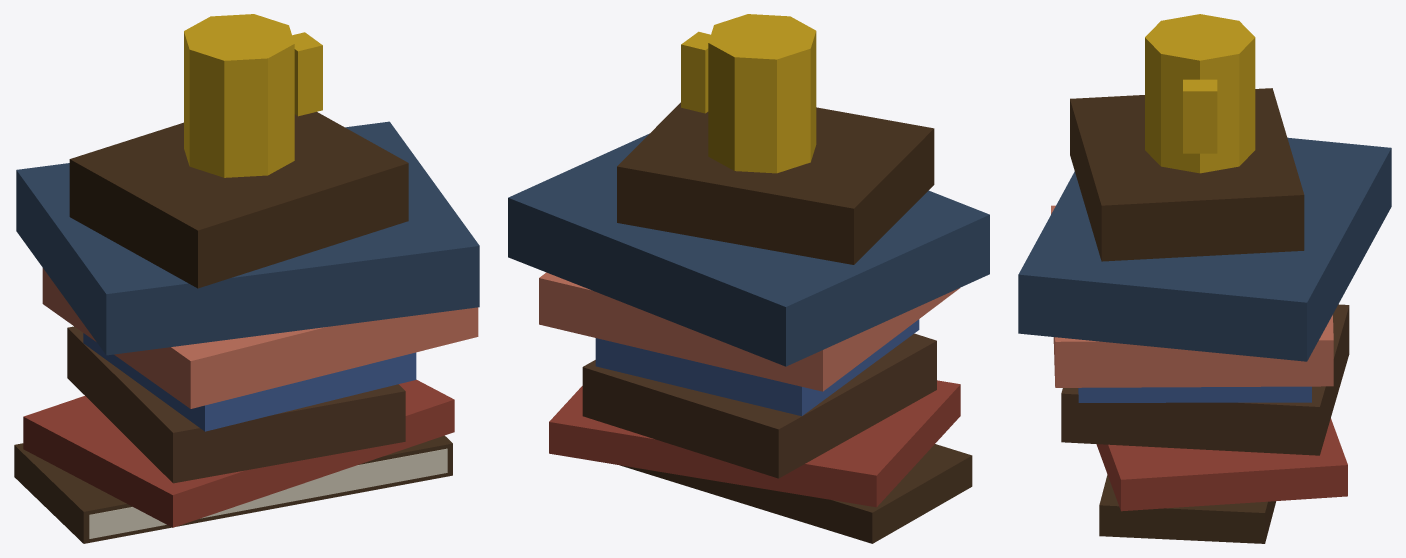
Rendered from book-stack-32.glb.
3 renders of one model, left to right at view 1: azimuth 30°, elevation 25°; view 2: azimuth 150°, elevation 25°; view 3: azimuth 270°, elevation 25°, orthographic. The views are drawn at different scales.
Visible parts, largest first — view 1: book_stack_32; view 2: book_stack_32; view 3: book_stack_32.
Boxes of the visible parts, left/top/right/bottom form: book_stack_32: left=14, top=14, right=479, bottom=543; book_stack_32: left=508, top=14, right=989, bottom=543; book_stack_32: left=1018, top=14, right=1391, bottom=543.
Bounding box in the file's own units: 0.3151 × 0.3377 × 0.27.
